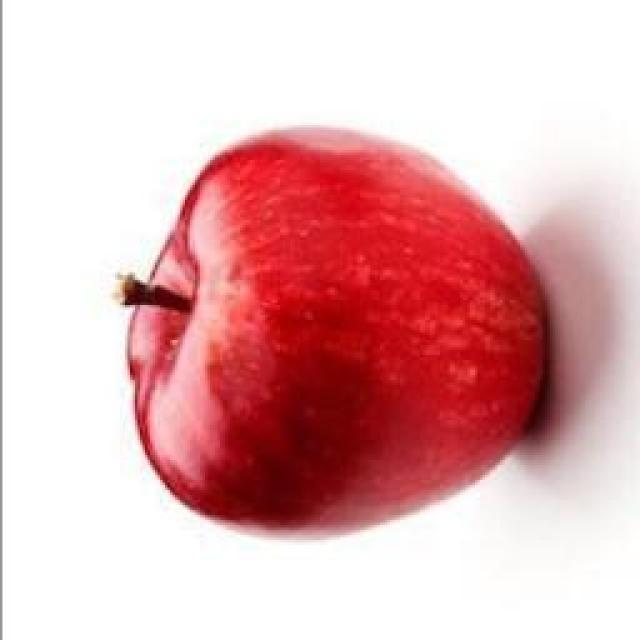Apple: (126, 129, 545, 529)
